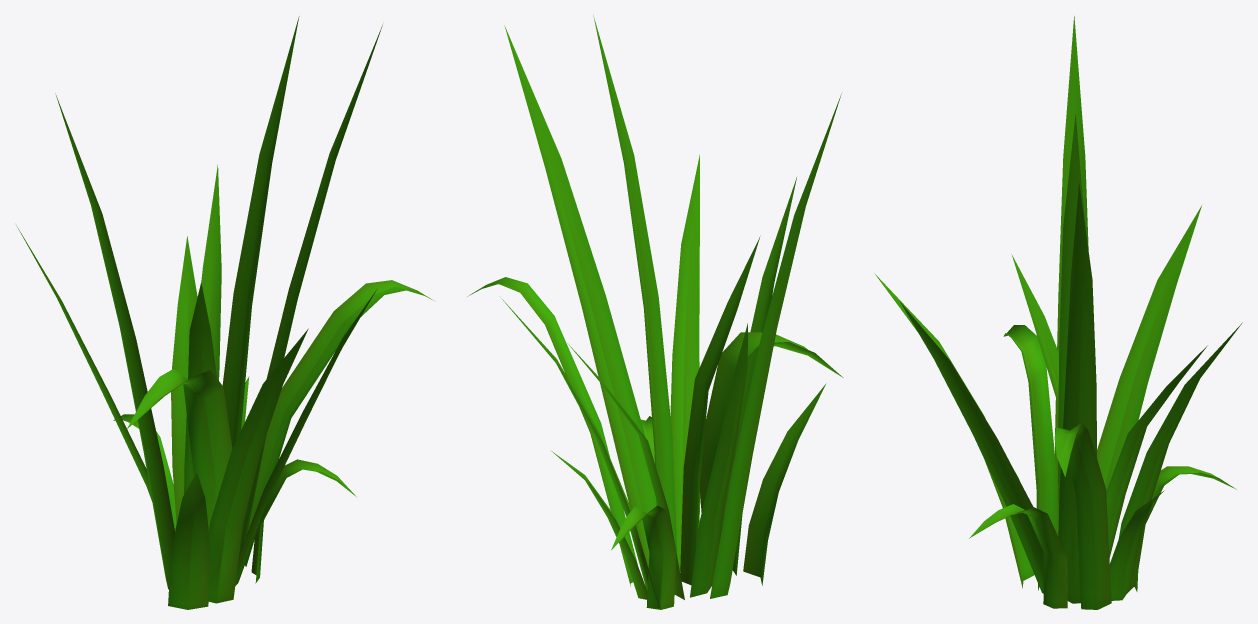
Rendered from grass_model.fbx.
3 views of the same model, side by side, from view 1: azimuth 30°, elevation 25°; view 2: azimuth 150°, elevation 25°; view 3: azimuth 270°, elevation 25° (orthographic). The views are drawn at different scales.
Visible parts, largest first — view 1: blade.001; view 2: blade.001; view 3: blade.001.
Boxes of the visible parts, x1,y1,x2,y2 form: blade.001: (16,16,435,609); blade.001: (467,15,843,609); blade.001: (874,16,1242,609).
Bounding box in the file's own units: 438 × 604 × 389.
1 material, 1 textured.
